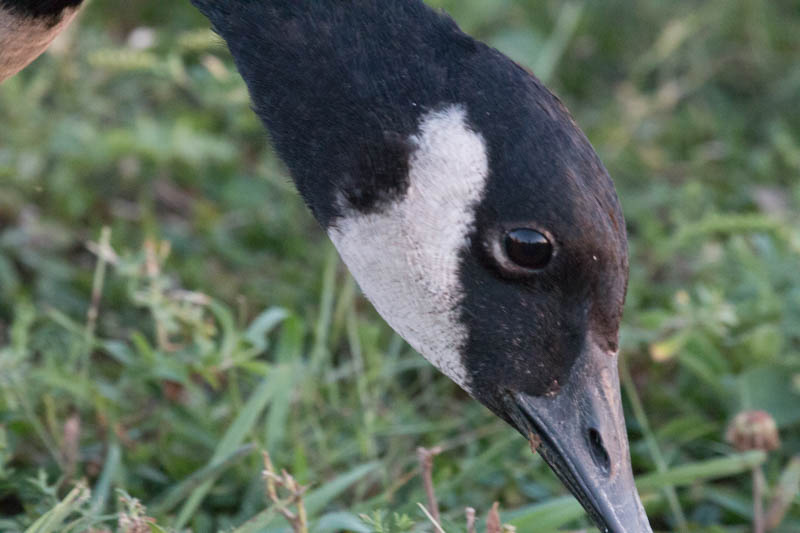goose-head: (269, 45, 654, 533)
